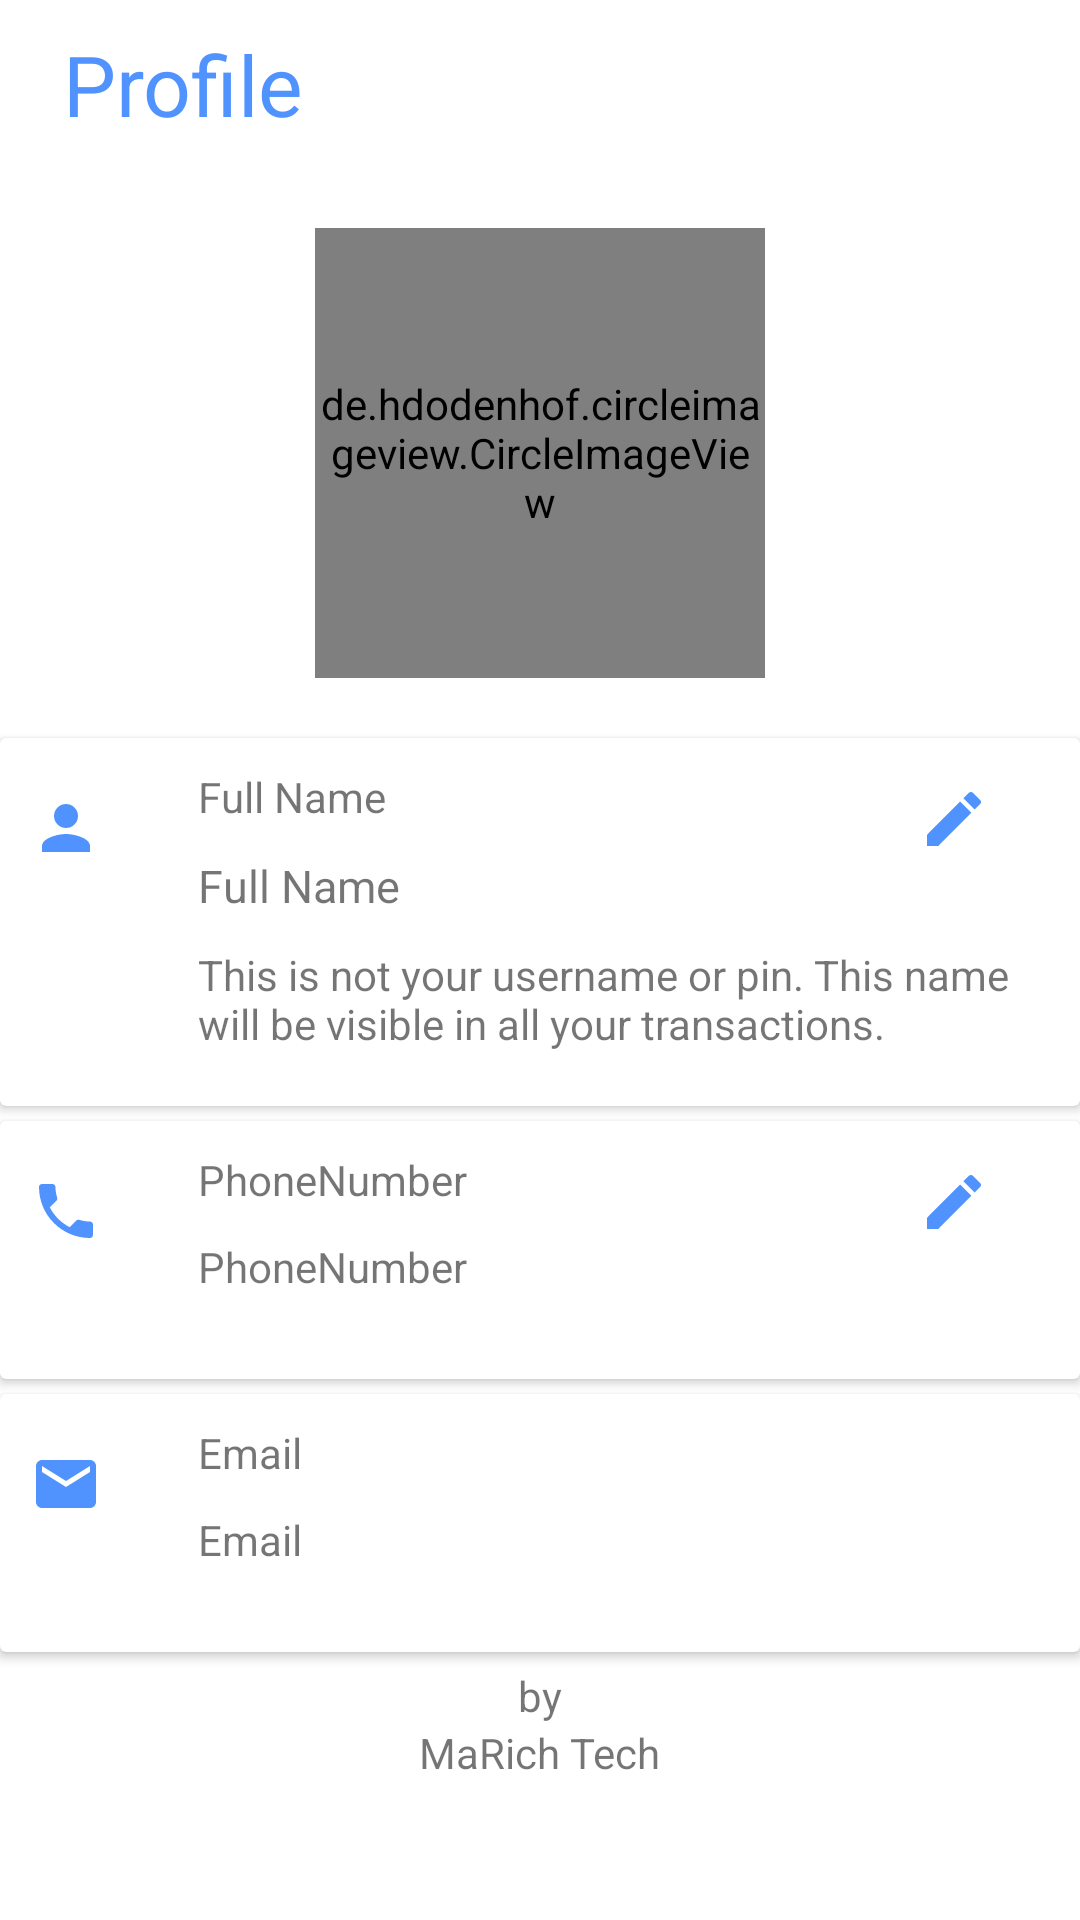

Icon bounding boxes for this 1080px×1920px phone screenshot, format (x1, y1, x2, y2):
edit: (927, 792, 981, 846), (927, 1175, 981, 1229)
person: (42, 804, 90, 852)
